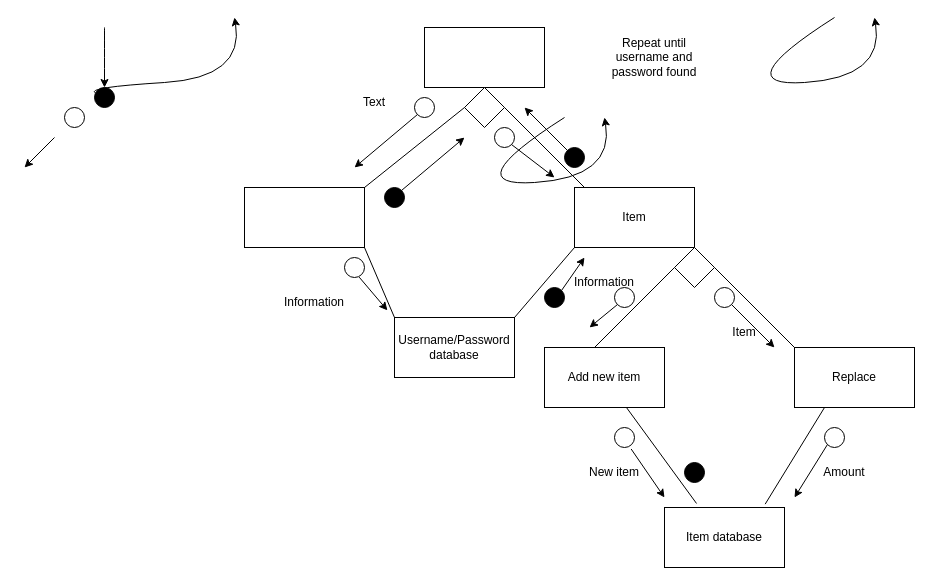
The diagram is 932 pixels wide and 585 high, and some of its shapes have lost their labels. Here are the shapes that lost their labels. From the top down, the box of each, then its label:
(424, 26, 544, 88): Login
(244, 186, 364, 248): Create
